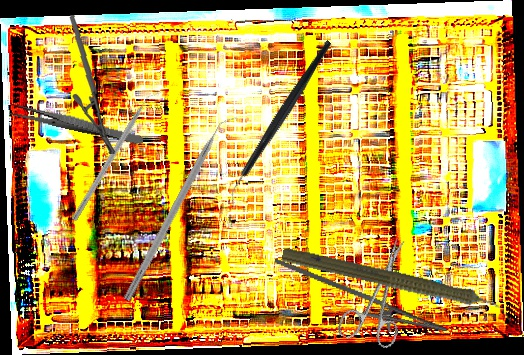Chopper: (187, 39, 375, 209), (123, 110, 240, 307), (71, 86, 163, 226)
Dressing Forceps: (8, 101, 145, 147)
Handpiece: (279, 243, 517, 324)
Iris Scissors: (335, 229, 430, 355)
Needle Holder: (264, 257, 454, 347), (61, 14, 124, 155)
